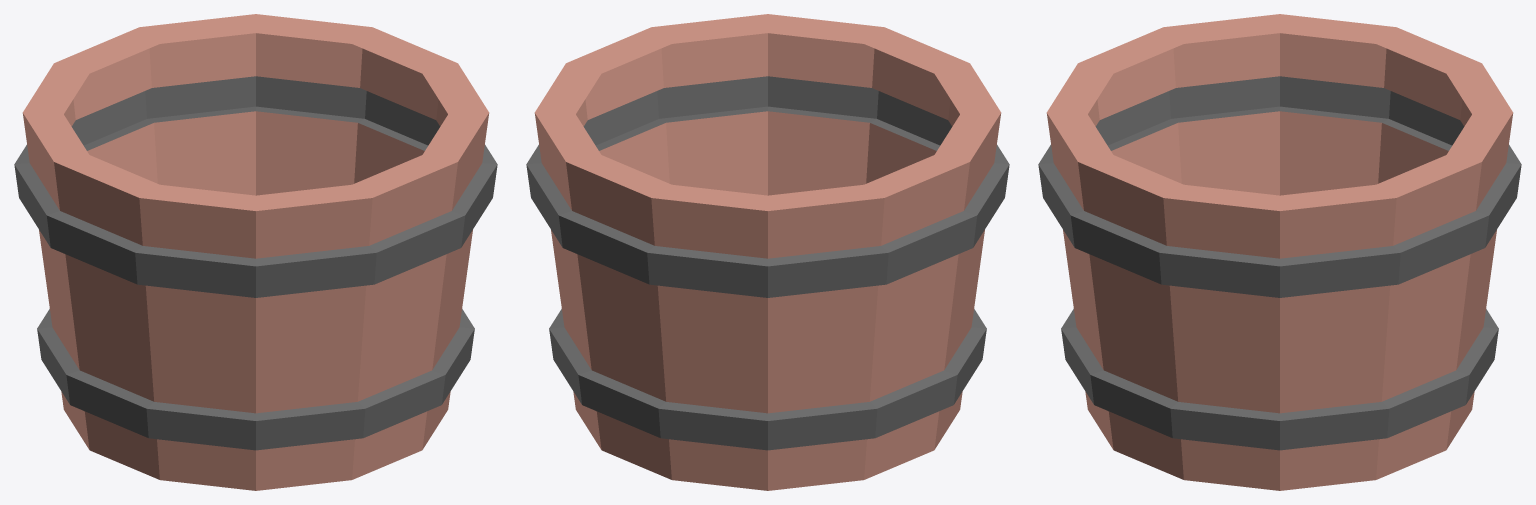
Rendered from bucket.fbx.
3 views of the same model, side by side, from view 1: azimuth 30°, elevation 25°; view 2: azimuth 150°, elevation 25°; view 3: azimuth 270°, elevation 25° (orthographic).
Visible parts, largest first — view 1: Cylinder, Cylinder.001; view 2: Cylinder, Cylinder.001; view 3: Cylinder, Cylinder.001.
Part boxes in pixels (<box>): Cylinder: <box>14,14,497,490</box>; Cylinder.001: <box>47,24,464,200</box>; Cylinder: <box>526,14,1009,490</box>; Cylinder.001: <box>559,24,976,200</box>; Cylinder: <box>1038,14,1521,490</box>; Cylinder.001: <box>1071,24,1488,200</box>.
Bounding box in the file's own units: 252 × 171 × 252.
